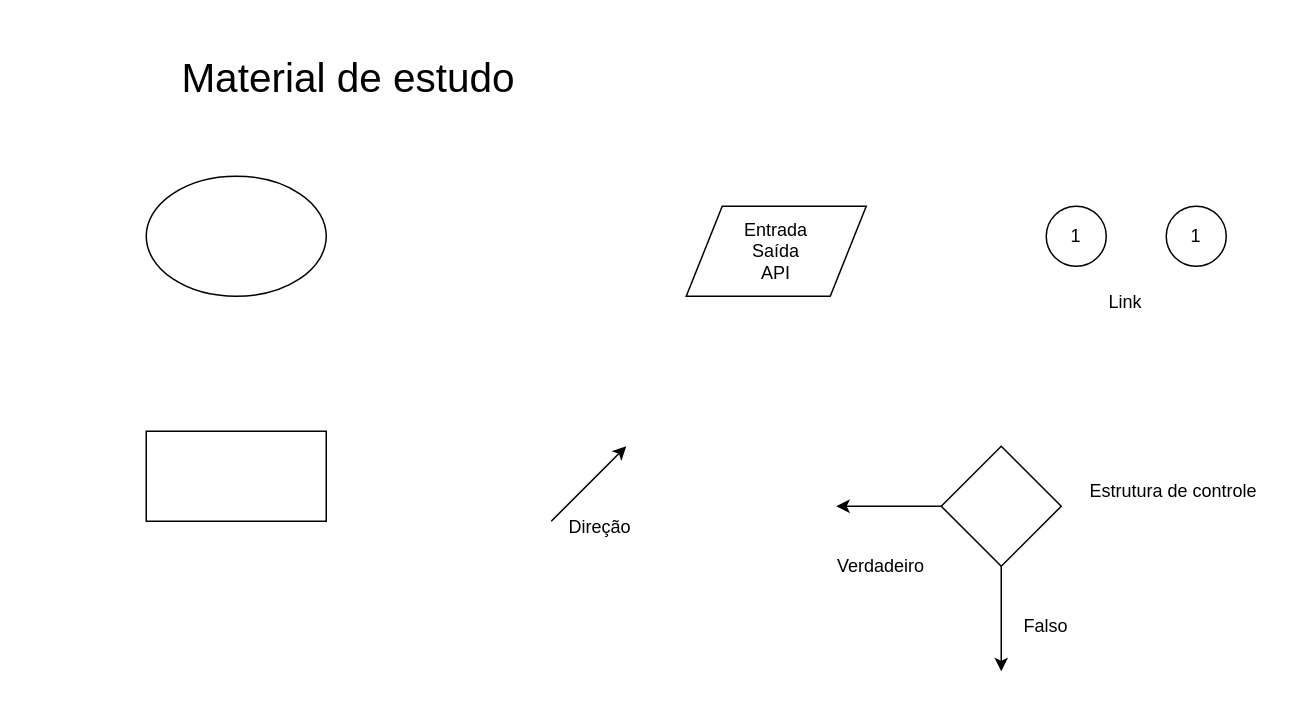
Image size: 1296x710. Some labels were removed from this diagram. Each missing label, with the centre of its shape:
Função Método: pixel 235 475
início fim: pixel 235 235
